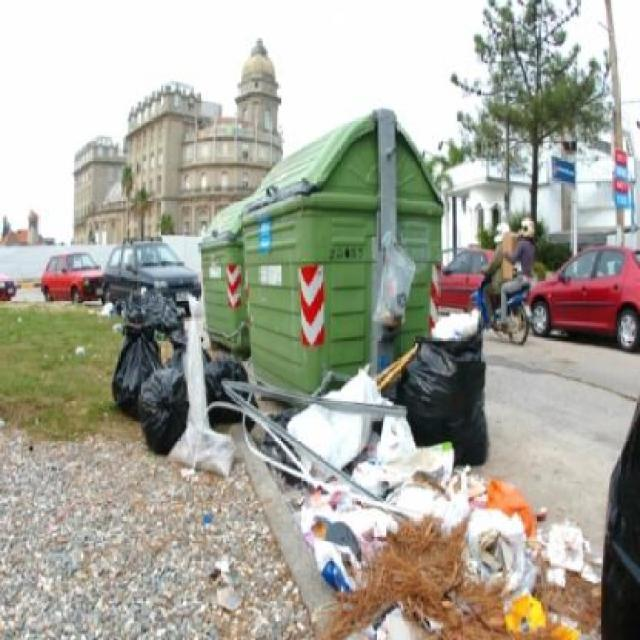garbage: (256, 377, 640, 638), (375, 229, 498, 440), (114, 294, 246, 472), (95, 297, 118, 336), (213, 553, 233, 593), (74, 345, 88, 357), (203, 513, 212, 523)
